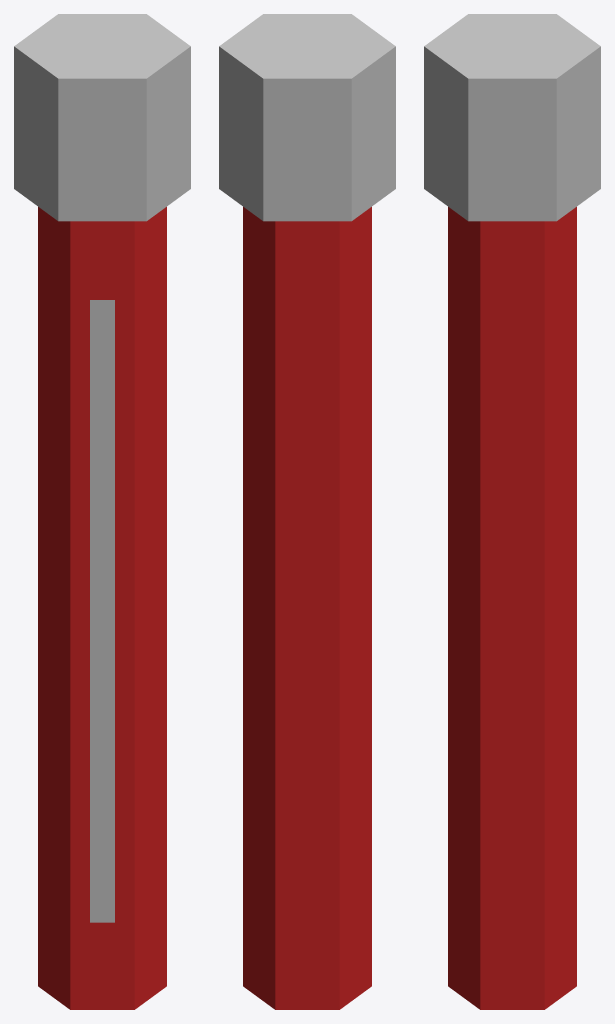
Rendered from Flare.fbx.
3 renders of one model, left to right at view 1: azimuth 30°, elevation 25°; view 2: azimuth 150°, elevation 25°; view 3: azimuth 270°, elevation 25°, orthographic.
Visible parts, largest first — view 1: Flare; view 2: Flare; view 3: Flare.
Part boxes in pixels (x1,y1,x2,y2): Flare: [14, 14, 190, 1009]; Flare: [219, 14, 395, 1009]; Flare: [424, 14, 600, 1009].
Bounding box in the file's own units: 3.56 × 24.15 × 4.11.
